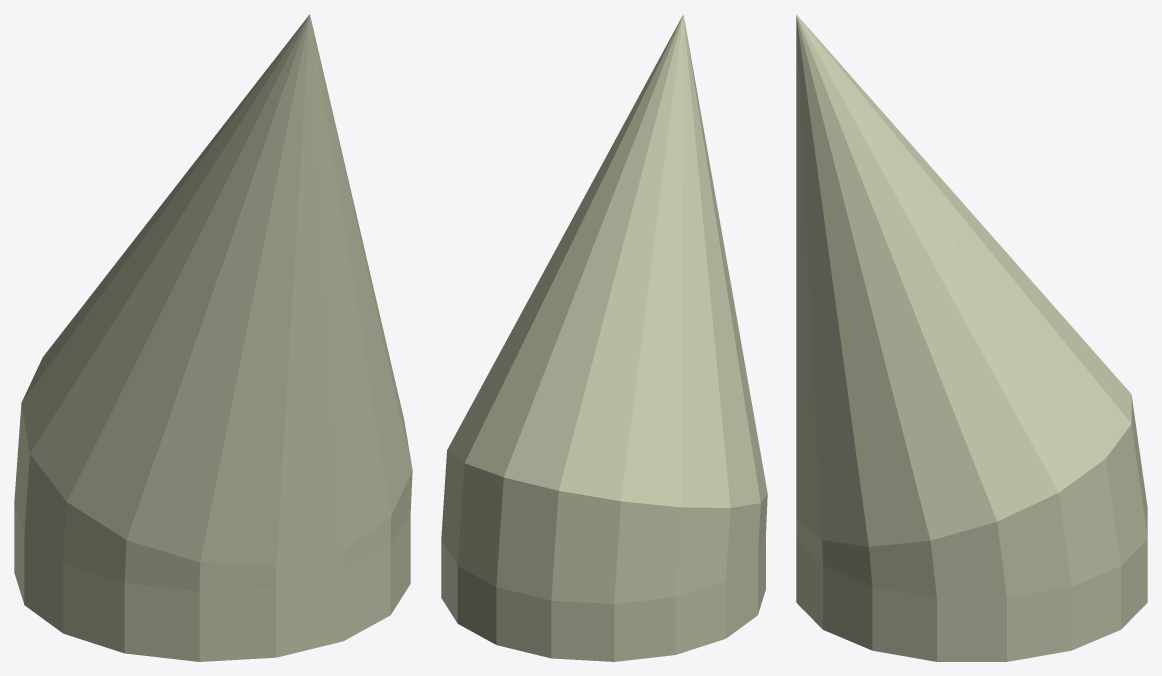
Rendered from HLV_Nose_2_Collider.obj.
3 views of the same model, side by side, from view 1: azimuth 30°, elevation 25°; view 2: azimuth 150°, elevation 25°; view 3: azimuth 270°, elevation 25° (orthographic). The views are drawn at different scales.
Visible parts, largest first — view 1: HLV_Nose_2_Collider; view 2: HLV_Nose_2_Collider; view 3: HLV_Nose_2_Collider.
Part boxes in pixels (<box>): HLV_Nose_2_Collider: <box>14,14,412,661</box>; HLV_Nose_2_Collider: <box>441,14,767,661</box>; HLV_Nose_2_Collider: <box>796,14,1147,661</box>.
Size of the model in its own units: 2.5 by 4.5 by 2.5.
